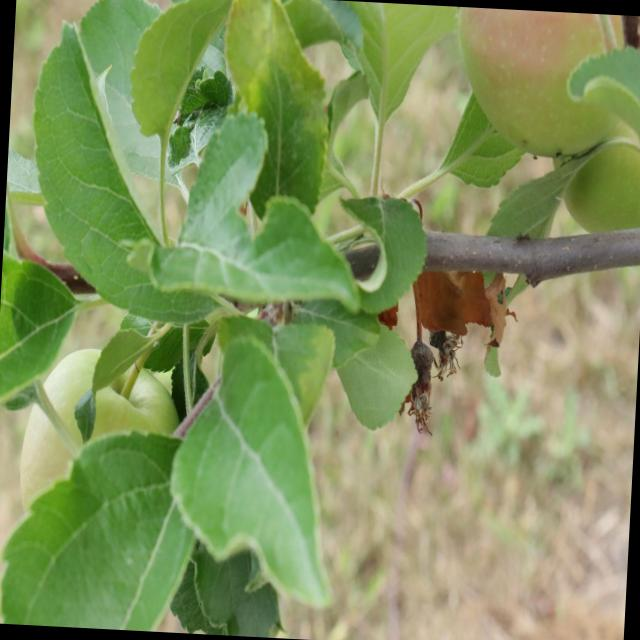-FireBlight-: (413, 260, 525, 355)
